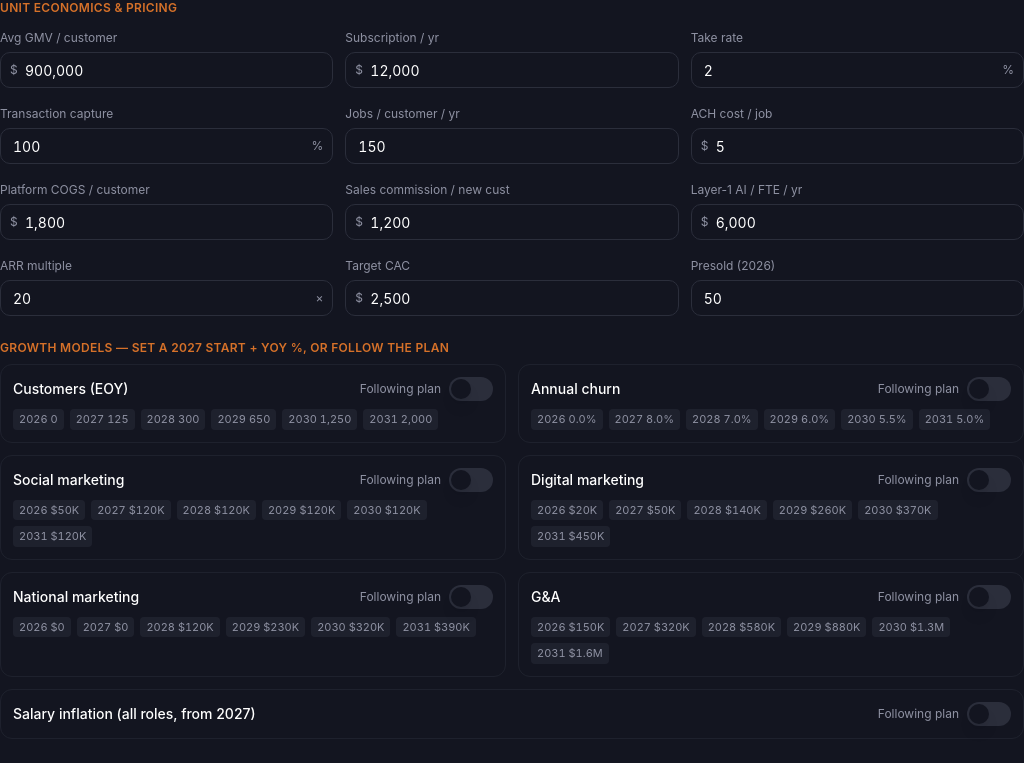
Test: Finance (WAR_ROOM) — assumptions propagate live › changing the ARR multiple updates the valuation in the raise panel
Replace the text in the number field labelled "ARR multiple" with "10": [167, 298] box [0,280,333,316]
(page scrolled)
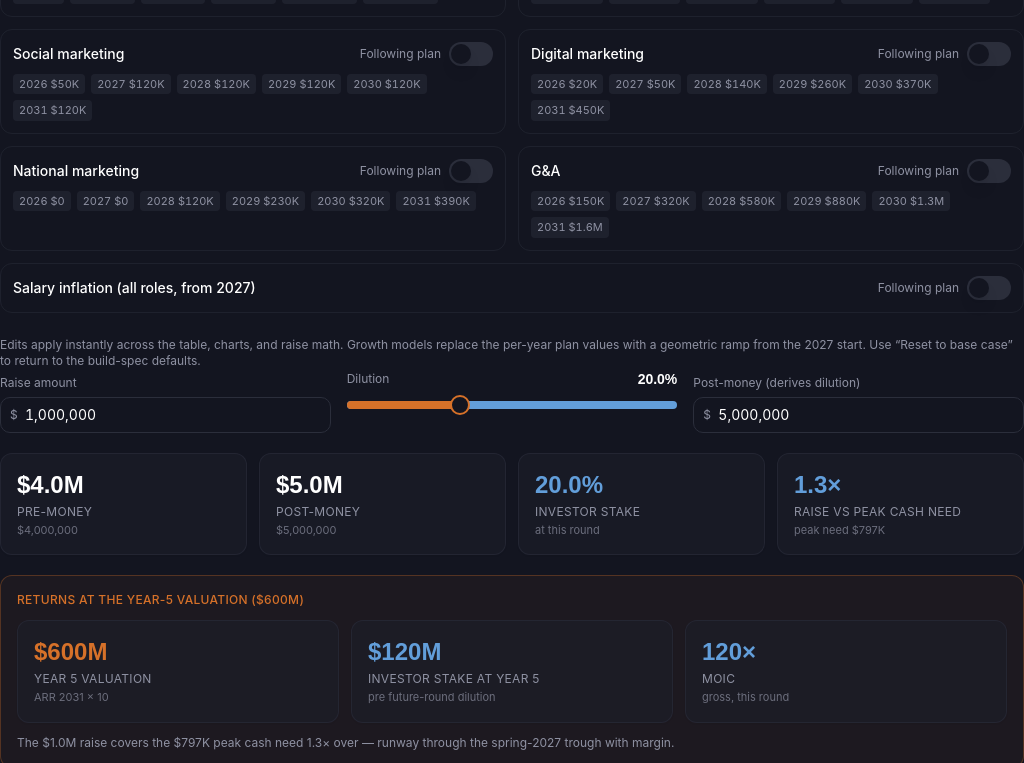
Now the text "$600M" is shown, box [34,638,107,665]
